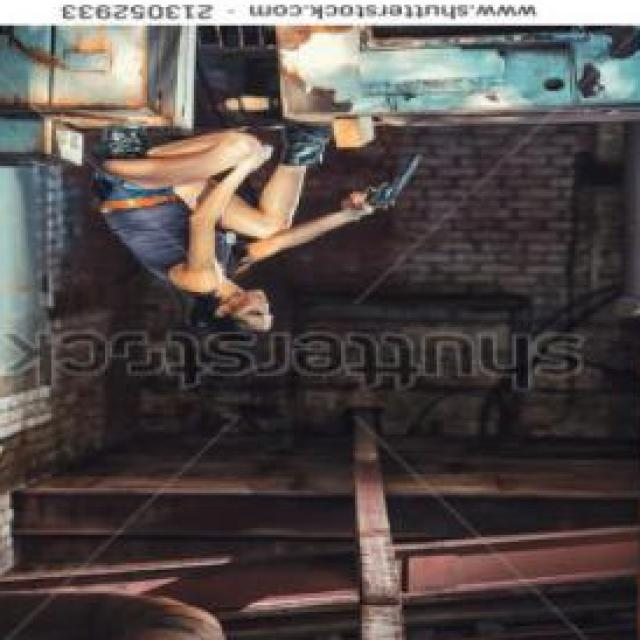pistol: (341, 153, 425, 217)
